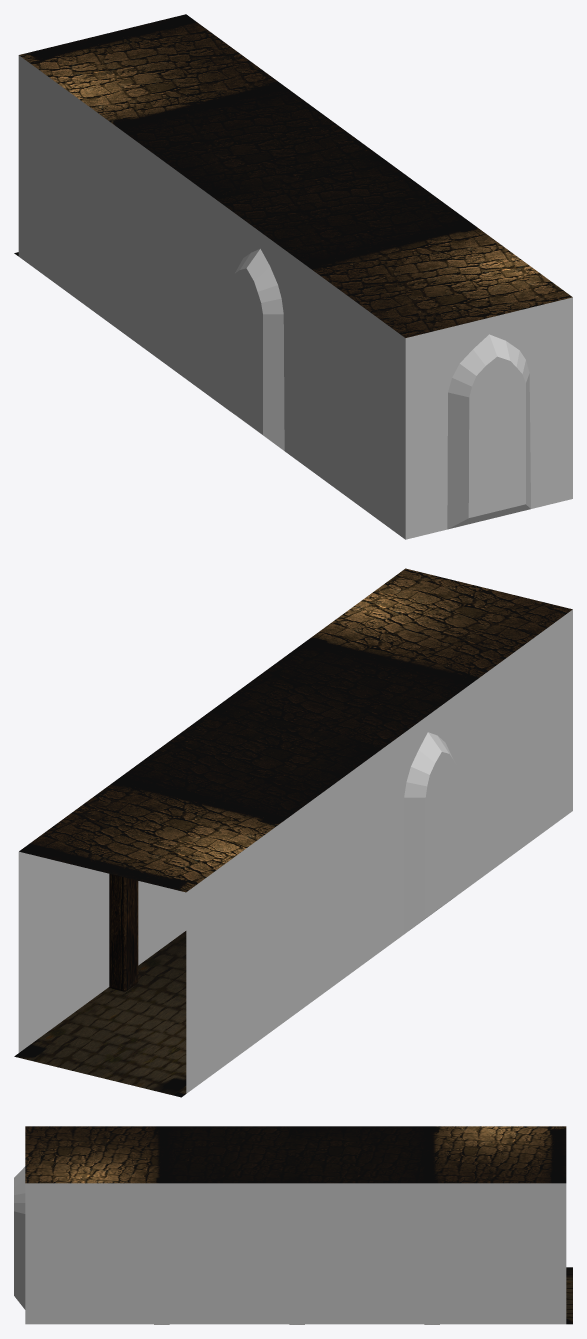
Rendered from corridorBaked02.fbx.
3 views of the same model, one above another, from view 1: azimuth 30°, elevation 25°; view 2: azimuth 150°, elevation 25°; view 3: azimuth 270°, elevation 25° (orthographic). The views are drawn at different scales.
Visible parts, largest first — view 1: castle_wall01, castle_celling01; view 2: castle_wall01, castle_celling01, castle_floor01, castle_beam01; view 3: castle_wall01, castle_celling01, castle_floor01.
Boxes of the visible parts, left/top/right/bottom form: castle_wall01: left=18, top=55, right=572, bottom=539; castle_celling01: left=19, top=14, right=572, bottom=337; castle_wall01: left=18, top=609, right=572, bottom=1093; castle_celling01: left=19, top=568, right=572, bottom=892; castle_floor01: left=14, top=931, right=186, bottom=1097; castle_beam01: left=109, top=874, right=138, bottom=991; castle_wall01: left=14, top=1166, right=566, bottom=1324; castle_celling01: left=25, top=1126, right=566, bottom=1183; castle_floor01: left=566, top=1267, right=572, bottom=1324.
Size of the model in its own units: 217 by 232 by 826.
